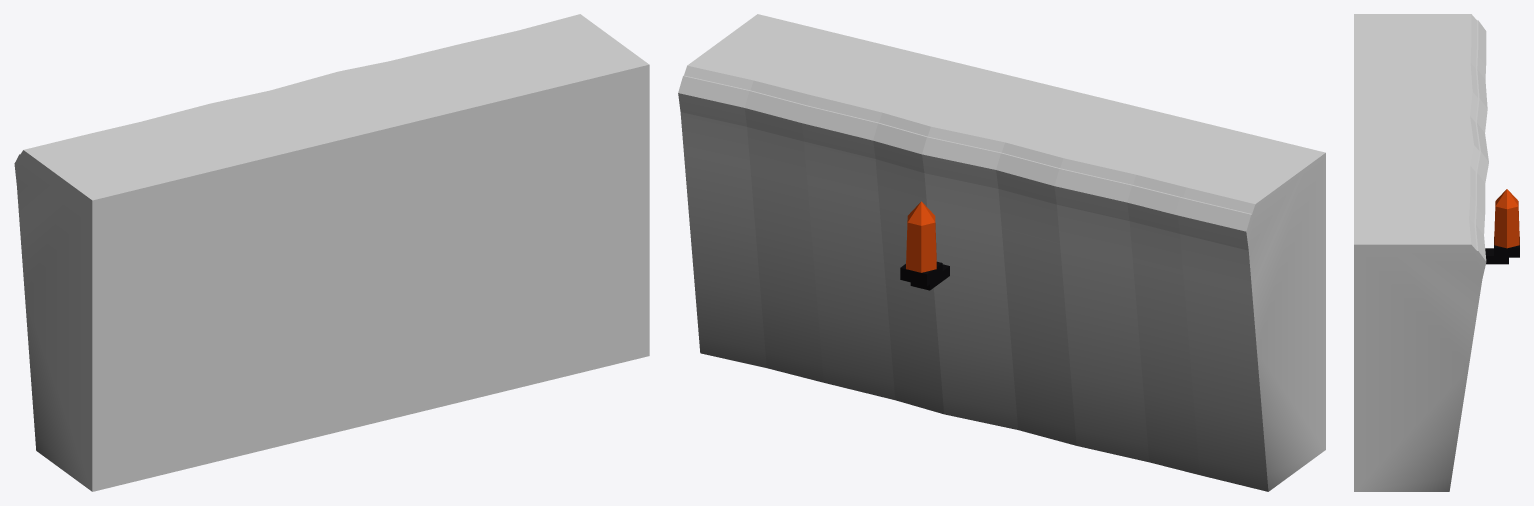
The model's file is HauntedCliff_Edge2_V2.fbx.
3 views of the same model, side by side, from view 1: azimuth 30°, elevation 25°; view 2: azimuth 150°, elevation 25°; view 3: azimuth 270°, elevation 25° (orthographic). The views are drawn at different scales.
Parts seen in each view (by area): view 1: HauntedCliff_Edge2_V2; view 2: HauntedCliff_Edge2_V2; view 3: HauntedCliff_Edge2_V2.
Boxes of the visible parts, box(x1,y1,x2,y2) form: HauntedCliff_Edge2_V2: box(14, 14, 649, 491); HauntedCliff_Edge2_V2: box(678, 14, 1325, 491); HauntedCliff_Edge2_V2: box(1354, 14, 1519, 491).
Bounding box in the file's own units: 2 × 1 × 0.6075.
